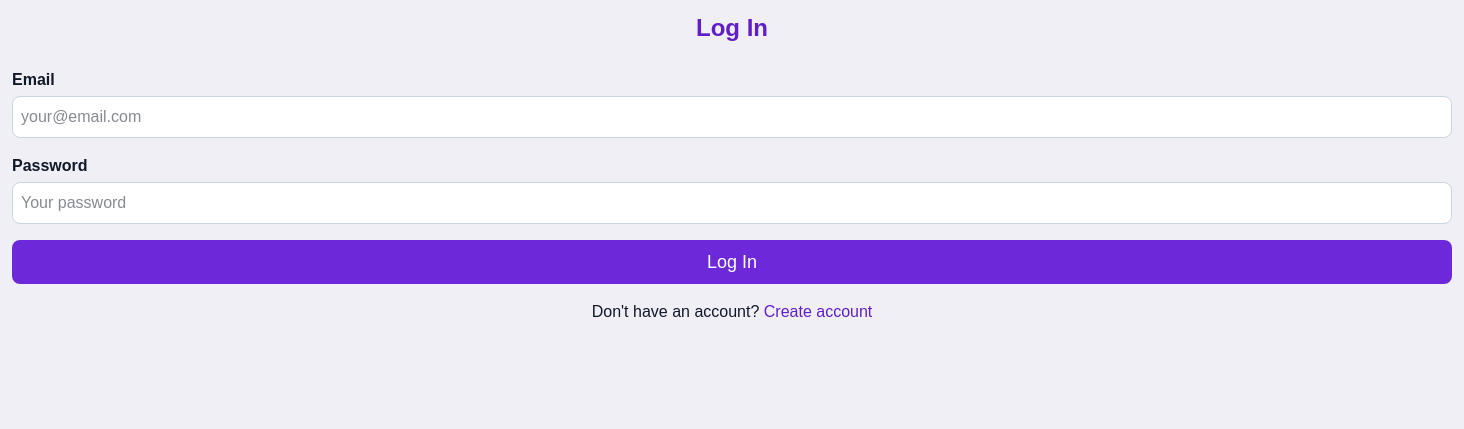
Test: AuthForm › switches to sign up mode
Click the button "Create account" at [818, 312], box [764,300,872,324]
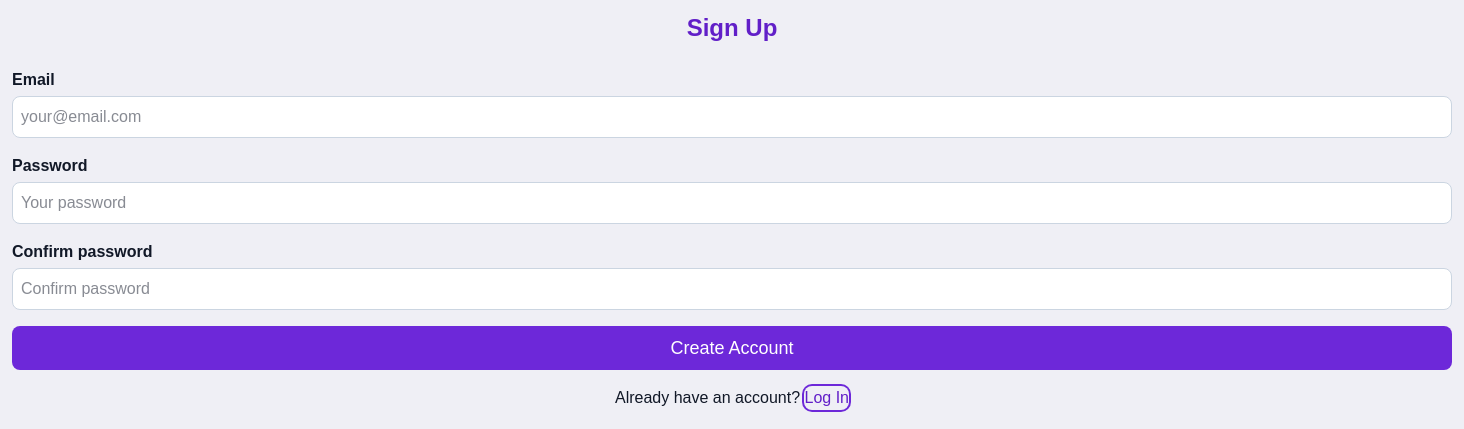
Check: the heading "Sign Up" is shown, box [687,14,777,41]
Check: the password field labelled "Confirm password" is shown, box [12,268,1452,310]
